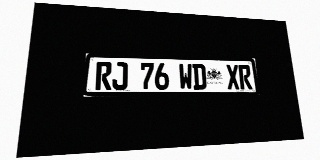6: (154, 63, 169, 90)
7: (140, 62, 154, 90)
D: (192, 64, 207, 90)
J: (112, 62, 128, 90)
R: (95, 62, 112, 90), (238, 65, 252, 89)
W: (178, 63, 193, 90)
X: (226, 64, 240, 89)
